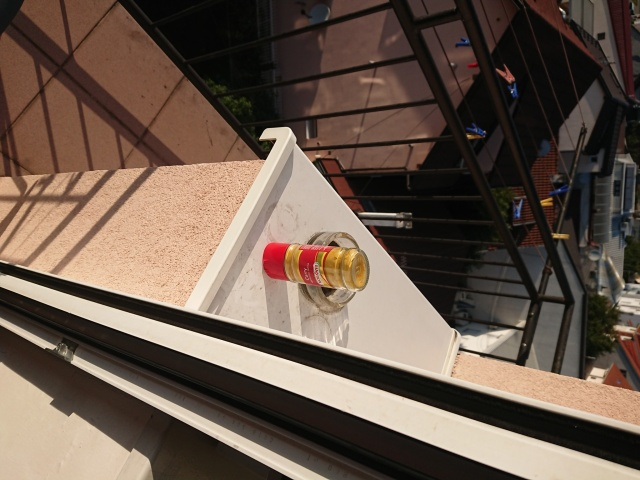Kotanyi Curry Spices Mix 70g: (261, 241, 373, 295)
